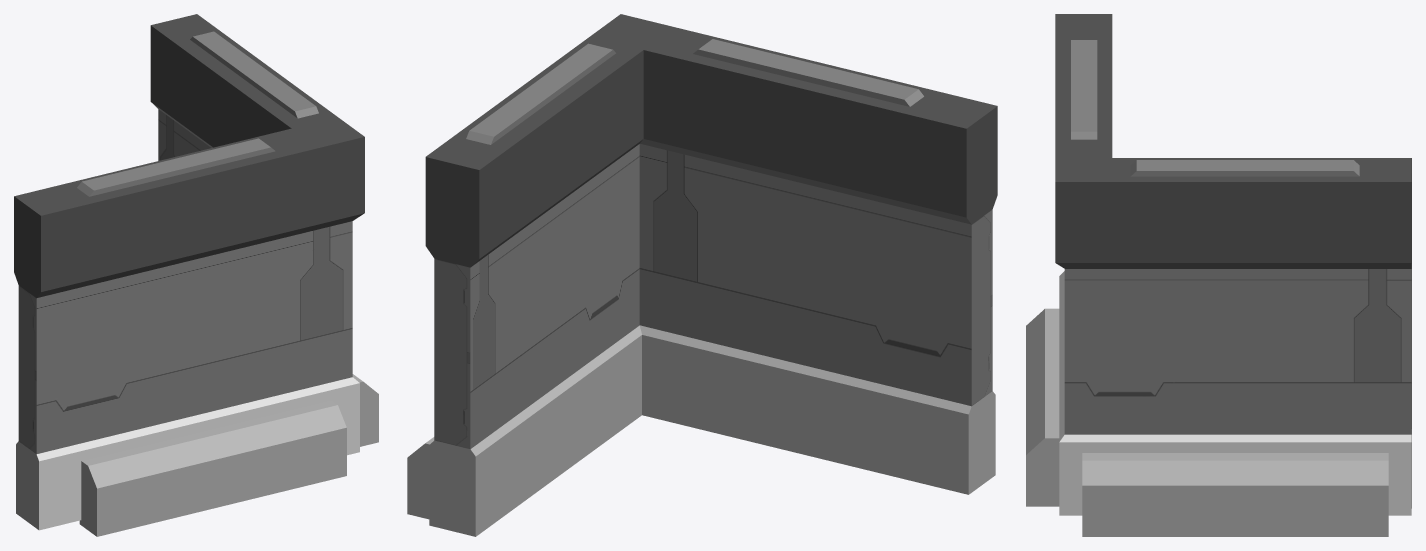
The model's file is SM_WallCorner_2x2_1.fbx.
3 renders of one model, left to right at view 1: azimuth 30°, elevation 25°; view 2: azimuth 150°, elevation 25°; view 3: azimuth 270°, elevation 25°, orthographic. The views are drawn at different scales.
Visible parts, largest first — view 1: SM_WallCorner_2x2_1; view 2: SM_WallCorner_2x2_1; view 3: SM_WallCorner_2x2_1.
Boxes of the visible parts, x1,y1,x2,y2 form: SM_WallCorner_2x2_1: [14, 14, 378, 536]; SM_WallCorner_2x2_1: [407, 14, 997, 536]; SM_WallCorner_2x2_1: [1026, 14, 1411, 536].
Size of the model in its own units: 244 by 217 by 219.
